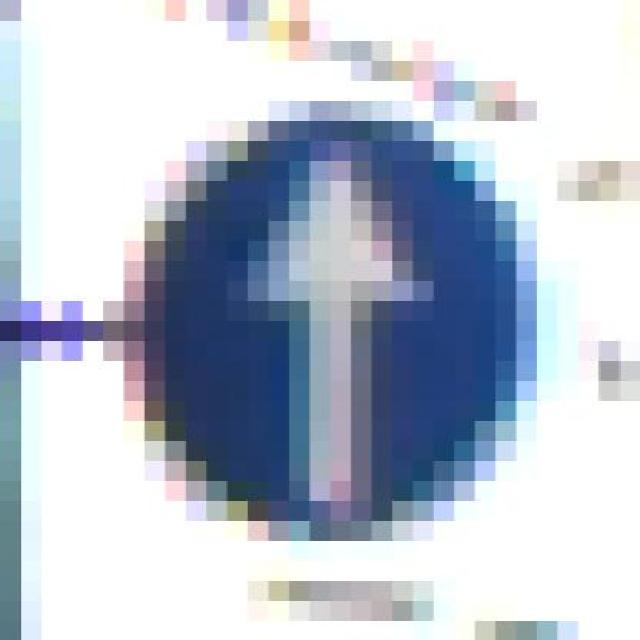Straight Ahead Only: (82, 100, 578, 560)
